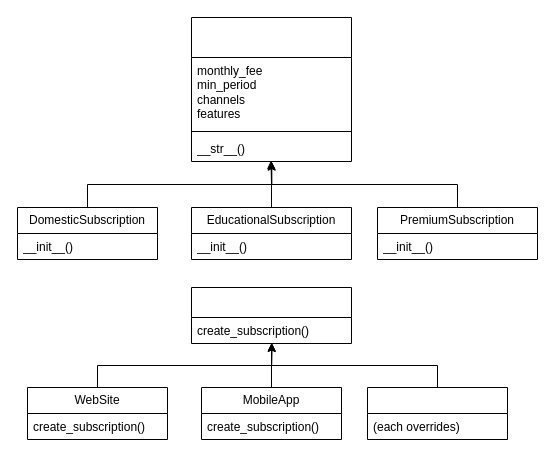
Some shapes in this 555 by 460 pixel diagram are drawn without their labels. Each missing label, with the box of its shape:
abstract Subscription: (190, 16, 352, 162)
abstract SubscriptionCreator: (190, 286, 352, 344)
ManagerCall: (366, 386, 508, 440)
